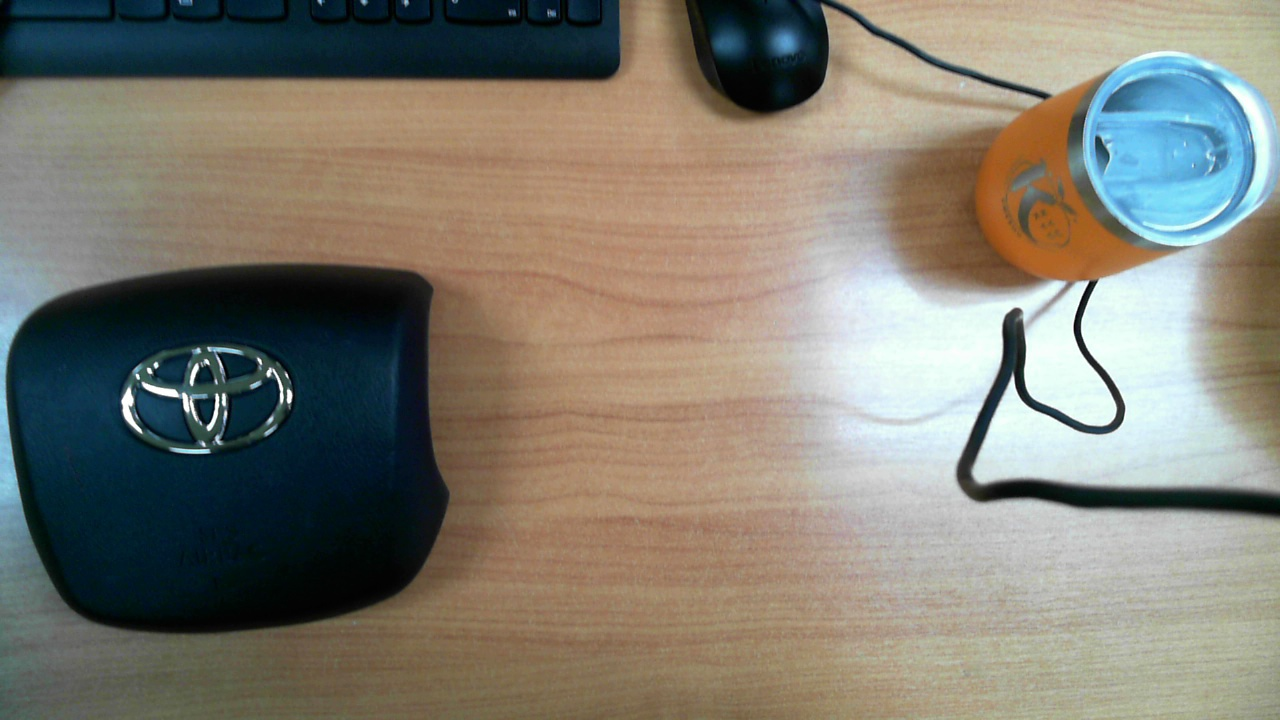Airbag: (5, 263, 451, 635)
Toyota: (121, 347, 294, 456)
